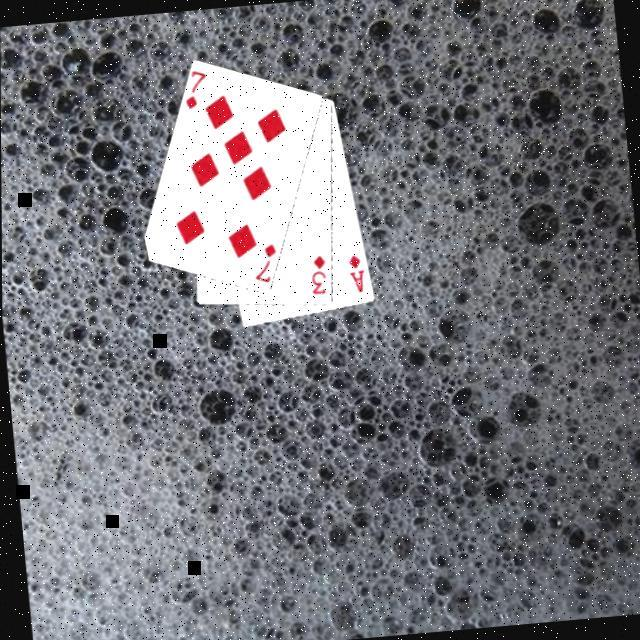3D: (302, 252, 328, 300)
7D: (246, 242, 280, 288), (178, 68, 210, 114)
AD: (342, 252, 366, 298)
